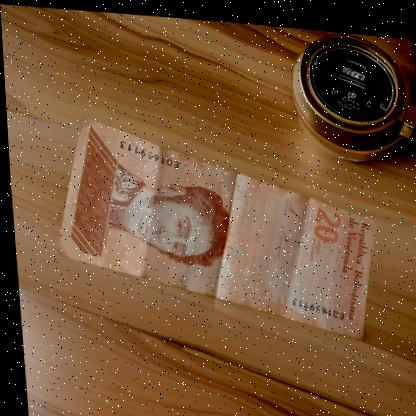twenty-front-vef: (104, 55, 331, 400)
